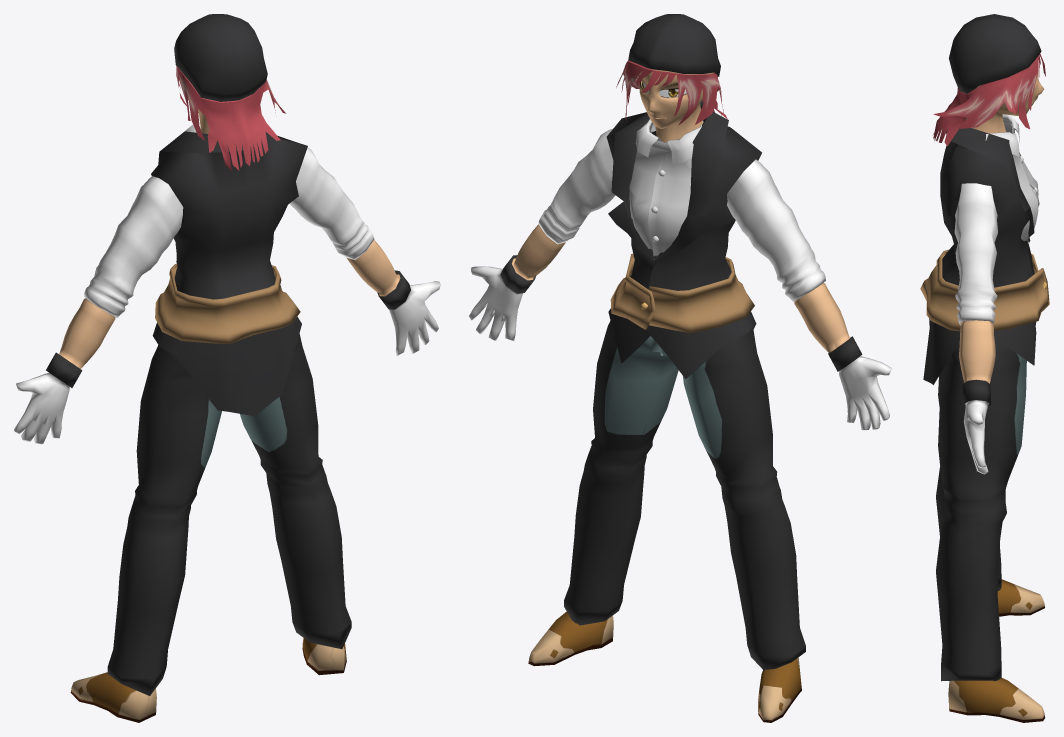
The model's file is Loki.fbx.
The picture shows the model from 3 angles, left to right: view 1: azimuth 30°, elevation 25°; view 2: azimuth 150°, elevation 25°; view 3: azimuth 270°, elevation 25°; orthographic projection. The views are drawn at different scales.
Visible parts, largest first — view 1: Cube.016, Cube.017, Cube.015, Cube.012, Cube.010, Cube.009, Cube.014; view 2: Cube.016, Cube.015, Cube.017, Cube.013, Cube.012, Cube.014, Cube.010, Cube.009, Cube.011; view 3: Cube.016, Cube.017, Cube.015, Cube.010, Cube.014, Cube.012, Cube.009, Cube.013, Cube.011.
Part boxes in pixels (x1,y1,x2,y2): Cube.016: (107,333,351,695); Cube.017: (151,131,307,416); Cube.015: (14,147,440,444); Cube.012: (155,263,300,343); Cube.010: (174,14,267,101); Cube.009: (176,65,285,170); Cube.014: (70,638,346,722); Cube.016: (564,320,805,670); Cube.015: (469,129,891,430); Cube.017: (606,101,761,378); Cube.013: (629,119,703,259); Cube.012: (610,253,754,332); Cube.014: (528,611,801,722); Cube.010: (628,14,720,76); Cube.009: (616,60,727,125); Cube.011: (637,68,714,142); Cube.016: (936,345,1026,681); Cube.017: (923,128,1036,384); Cube.015: (954,183,997,474); Cube.010: (949,14,1041,93); Cube.014: (948,579,1045,722); Cube.012: (920,249,1049,331); Cube.009: (932,53,1045,146); Cube.013: (972,114,1039,244); Cube.011: (966,71,1044,133).
Bounding box in the file's own units: 762 × 1139 × 207.
11 materials, 6 textured.
